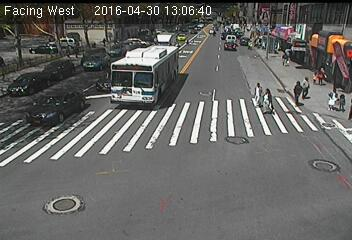neg: (278, 151, 304, 185), (129, 62, 154, 95), (66, 144, 90, 176), (212, 173, 235, 205), (138, 154, 160, 183), (190, 66, 209, 92), (184, 127, 203, 152), (40, 83, 58, 107), (264, 34, 279, 55), (184, 27, 199, 47), (223, 30, 236, 48), (96, 67, 108, 83)
pos: (258, 84, 280, 114), (287, 79, 308, 106), (249, 82, 268, 107), (298, 76, 316, 100), (324, 87, 342, 110), (313, 66, 329, 86), (337, 94, 349, 111), (309, 71, 321, 87), (280, 49, 291, 65)
